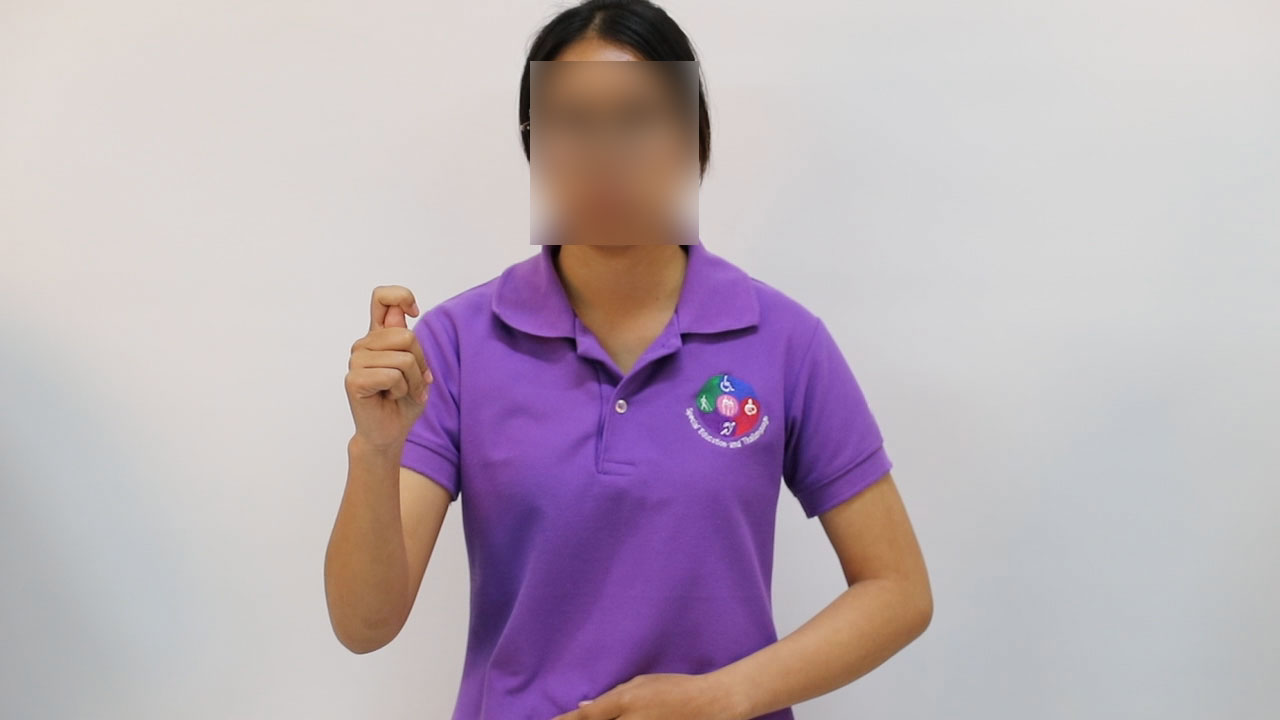or: (339, 274, 440, 455)
